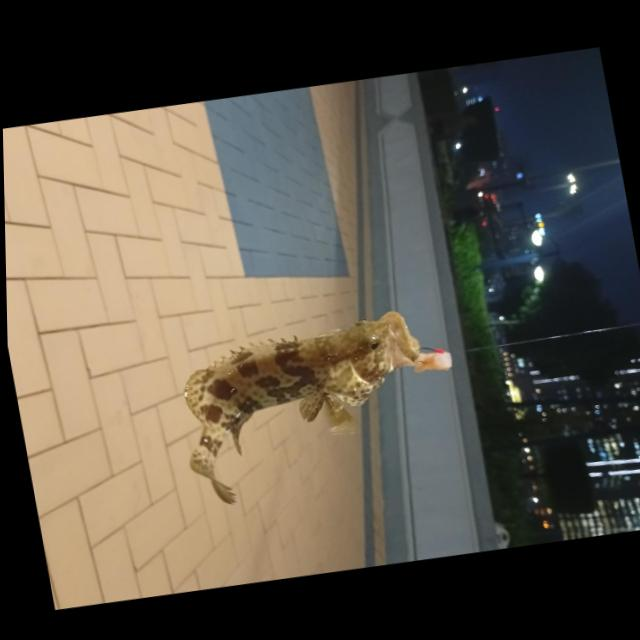Groupers: (165, 301, 444, 514)
